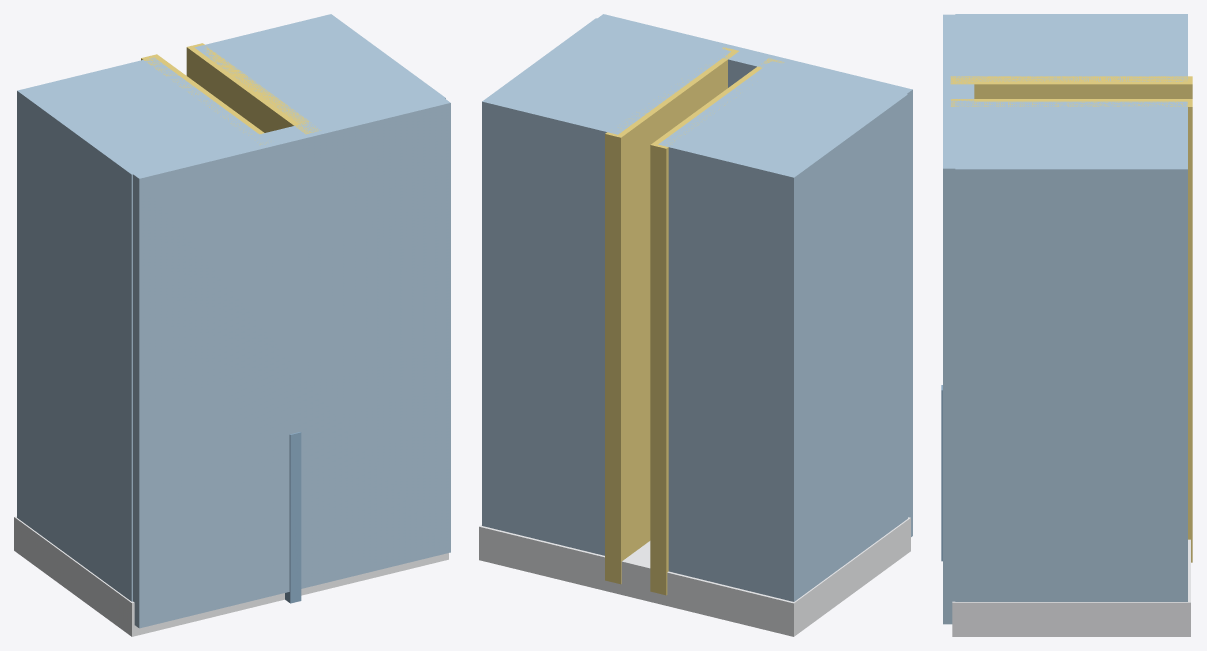
The model's file is pirata_neve_saia.glb.
The picture shows the model from 3 angles, left to right: view 1: azimuth 30°, elevation 25°; view 2: azimuth 150°, elevation 25°; view 3: azimuth 270°, elevation 25°; orthographic projection. The views are drawn at different scales.
Visible parts, largest first — view 1: pirata_neve_saia; view 2: pirata_neve_saia; view 3: pirata_neve_saia.
Boxes of the visible parts, <box> form: pirata_neve_saia: <box>14,14,450,636</box>; pirata_neve_saia: <box>479,14,912,636</box>; pirata_neve_saia: <box>941,14,1192,636</box>.
Bounding box in the file's own units: 0.59 × 0.82 × 0.4.
